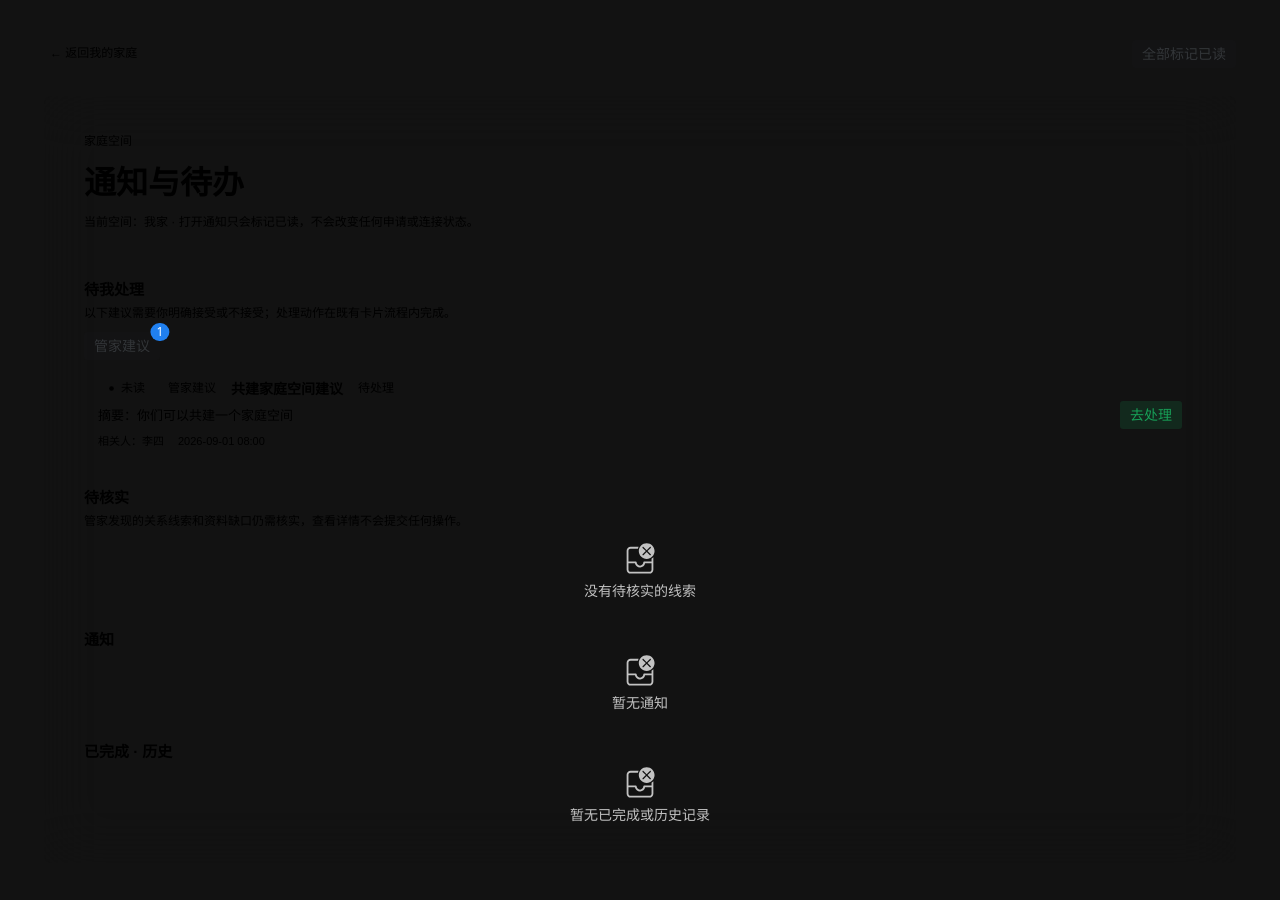
Test: NotificationsView（PRD §2.6：三分区 + 已读与 ActionCard 严格分离） › 「去处理」打开既有 ActionCard 流程（Inbox + 卡片），通知页自身不执行卡片动作
Click the button with test id "go-process". click: (1151, 415)
box: [1120,401,1182,429]
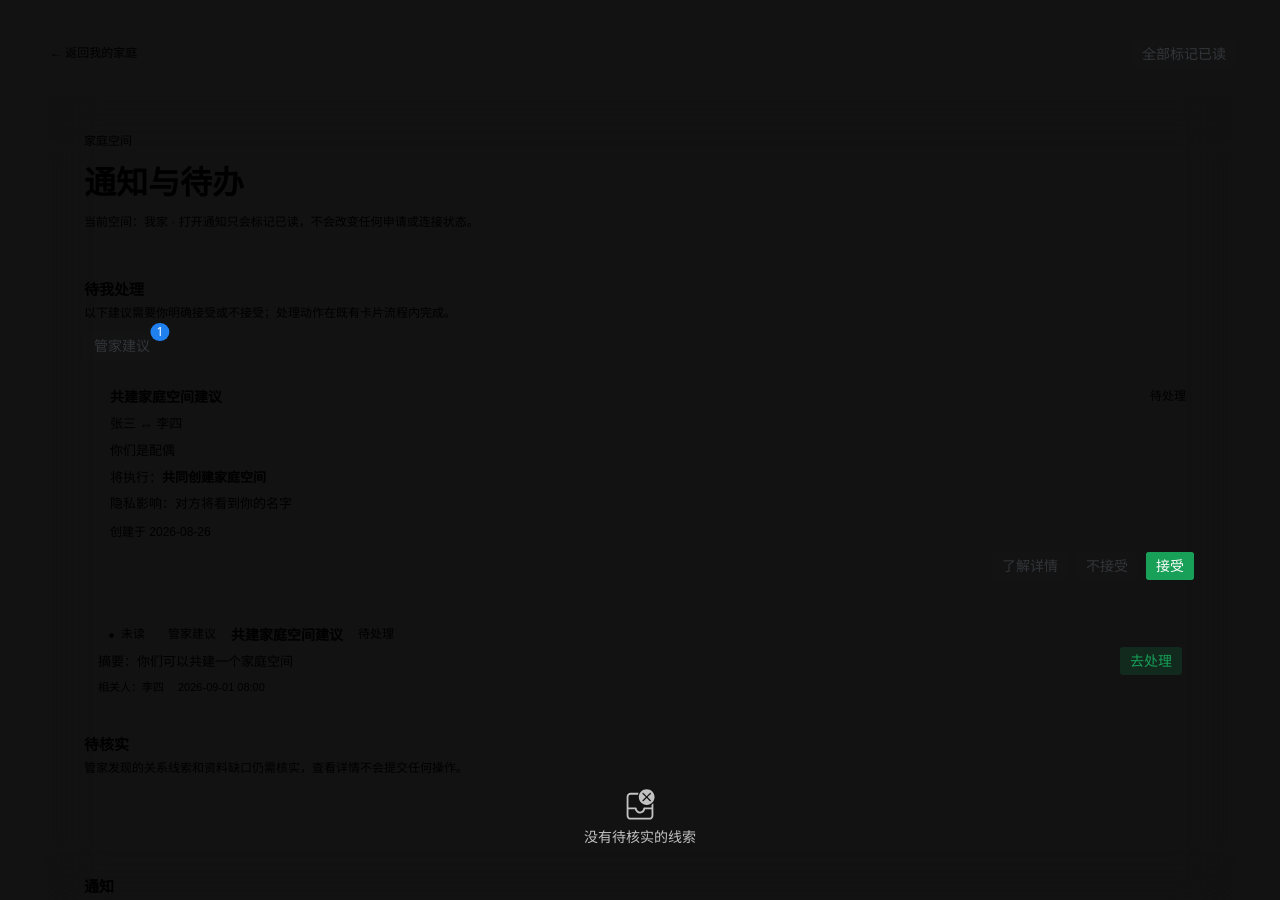
Result: the element with test id "steward-inbox-panel" is shown at [84,360,1220,606]
Result: the element with test id "action-card-item" is shown at [96,372,1208,594]
